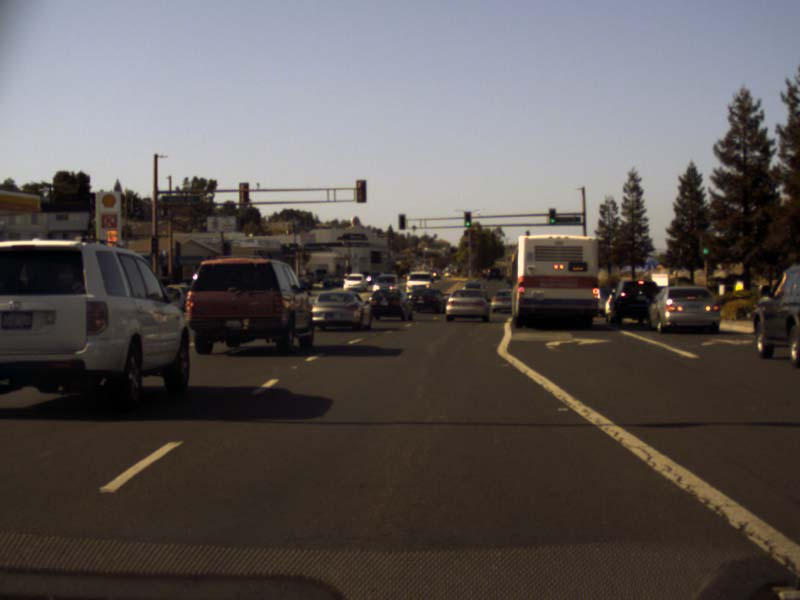Green: (700, 235, 708, 255), (548, 210, 556, 225), (464, 211, 470, 226)
